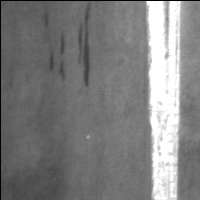inclusion: (73, 1, 94, 89), (47, 27, 68, 85)
scratches: (145, 1, 184, 200)
